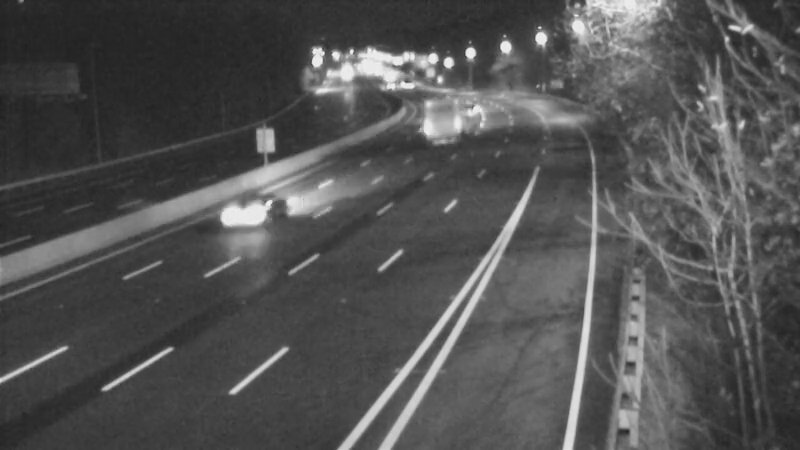vehicle: (202, 165, 282, 245), (380, 60, 430, 110), (367, 62, 417, 112), (449, 84, 499, 134), (409, 101, 459, 151)
